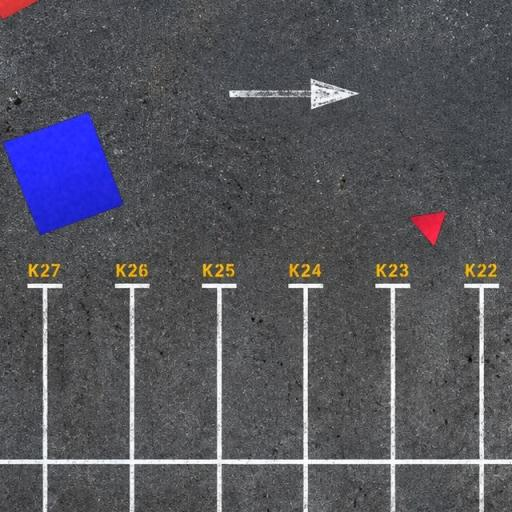BLUE_SQUARE: (2, 111, 125, 236)
